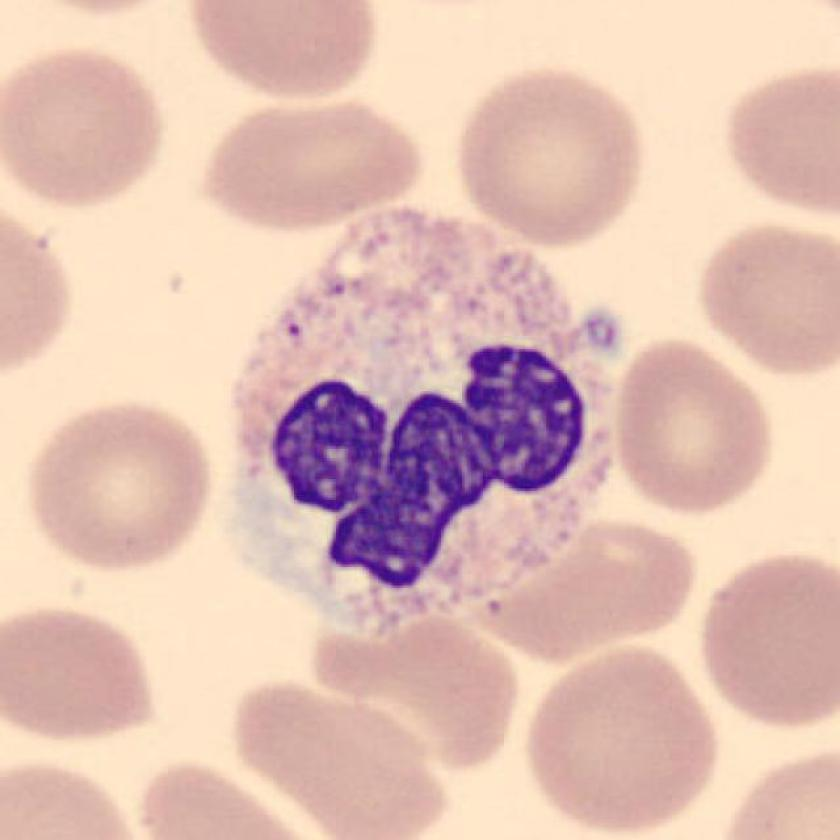neutrophil: (232, 204, 611, 635)
